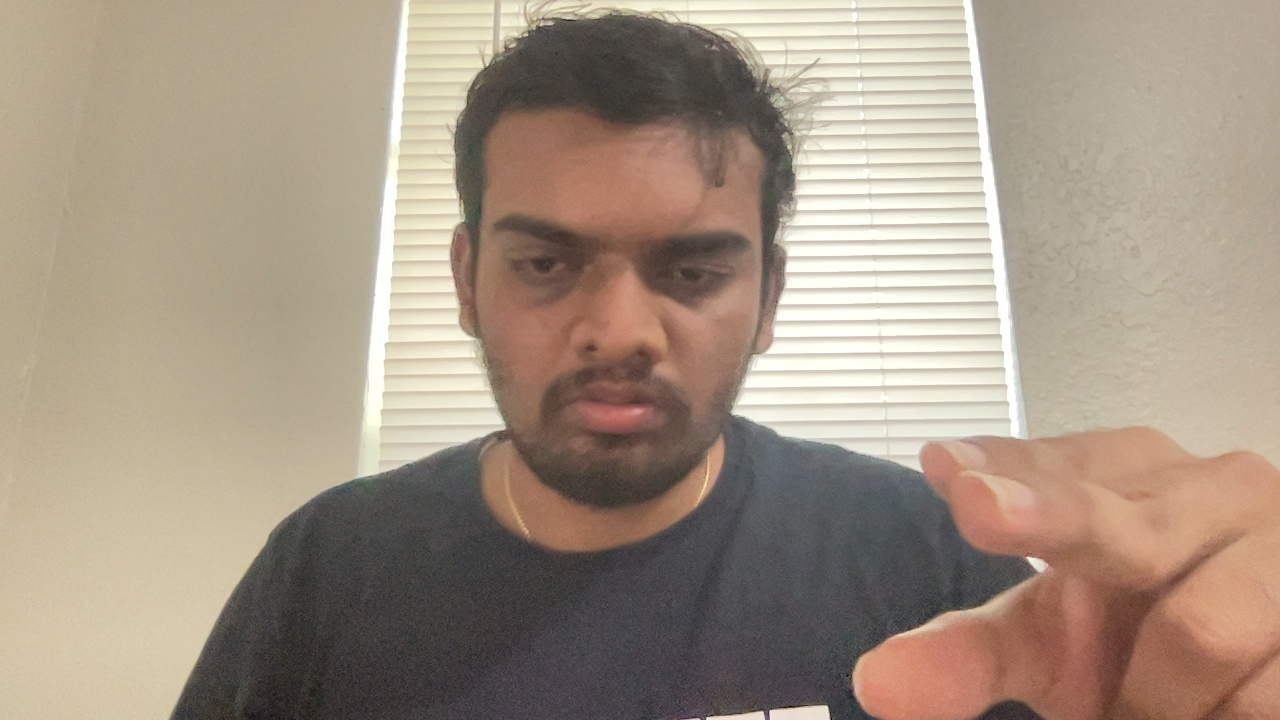no: (848, 408, 1280, 720)
